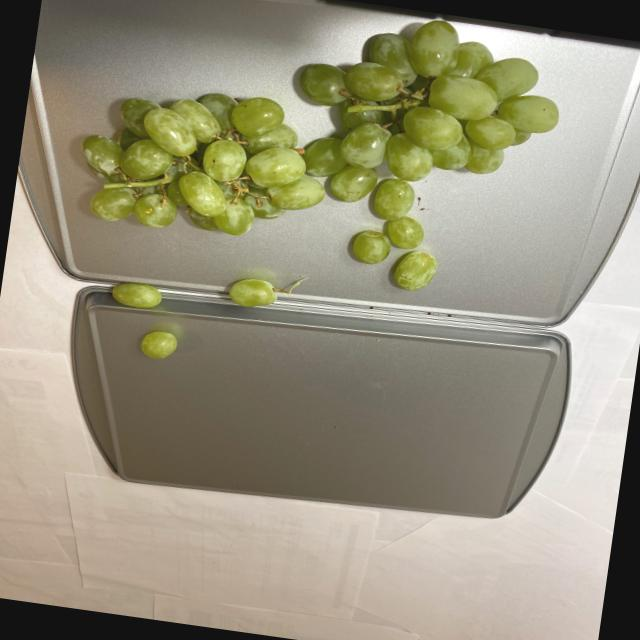grapes: (73, 0, 579, 308), (100, 245, 295, 378)
